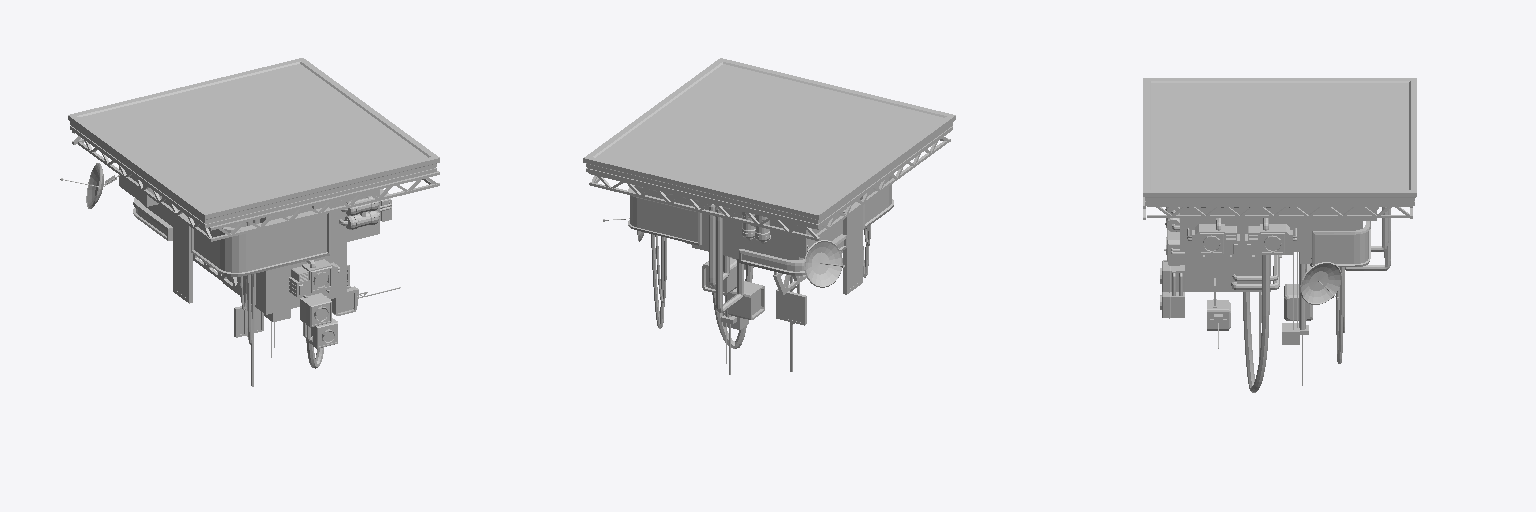
Rendered from Platform_4x4_Cube_001.obj.
3 renders of one model, left to right at view 1: azimuth 30°, elevation 25°; view 2: azimuth 150°, elevation 25°; view 3: azimuth 270°, elevation 25°, orthographic.
Parts seen in each view (by area): view 1: Platform_4x4_Cube.001; view 2: Platform_4x4_Cube.001; view 3: Platform_4x4_Cube.001.
Part boxes in pixels (x1,y1,x2,y2): Platform_4x4_Cube.001: (60, 58, 439, 386); Platform_4x4_Cube.001: (583, 58, 955, 374); Platform_4x4_Cube.001: (1143, 78, 1416, 392).
Bounding box in the file's own units: 4.47 × 3.76 × 3.9.